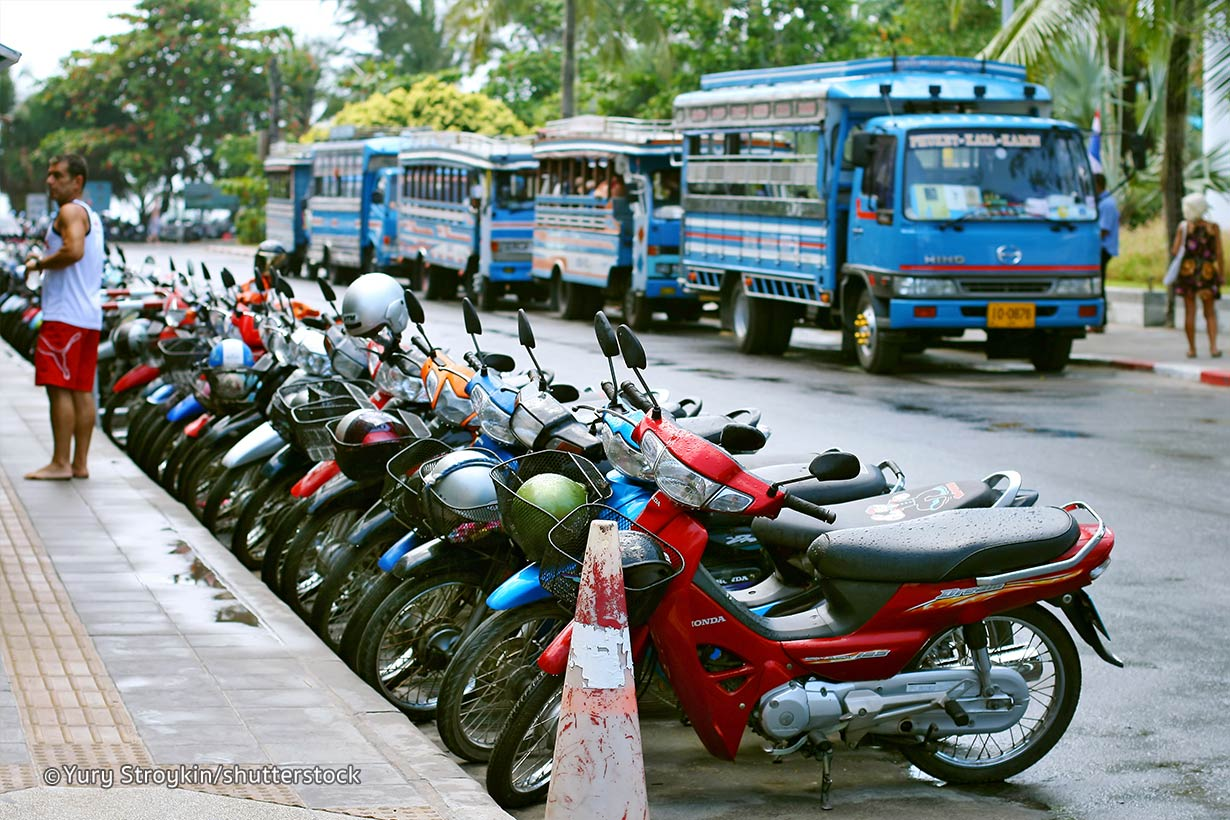motorbike: (501, 441, 1108, 789)
